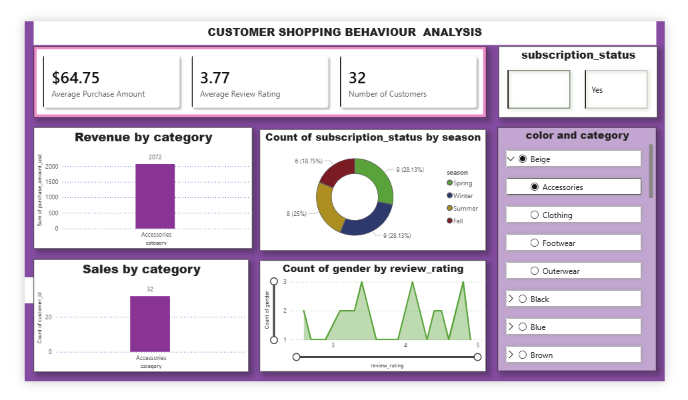

The dashboard page shown, as its layout file describes it:
{"tool":"powerbi","page":{"name":"CUSTOMER SHOPPING BEHAVIOUR  ANALYSIS","canvas":[1280,720],"ordinal":0},"visuals":[{"type":"cardVisual","fields":{"Data":["customer_shopping_behavior_clean.Average Purchase Amount","customer_shopping_behavior_clean.Average Review Rating","customer_shopping_behavior_clean.Number of Customers"]},"box":[17.5,50,905,142.5],"z":0},{"type":"textbox","box":[0,512,82,52],"z":1000},{"type":"clusteredColumnChart","title":"Revenue by category","fields":{"Category":["customer_shopping_behavior_clean.category"],"Y":["Sum(customer_shopping_behavior_clean.purchase_amount_usd)"]},"box":[17.5,212.5,437.5,242.5],"z":2000},{"type":"clusteredColumnChart","title":"Sales by category","fields":{"Category":["customer_shopping_behavior_clean.category"],"Y":["CountNonNull(customer_shopping_behavior_clean.customer_id)"]},"box":[17.5,475,430,225],"z":3000},{"type":"advancedSlicerVisual","fields":{"Values":["customer_shopping_behavior_clean.subscription_status"]},"box":[947.5,50,317.5,142.5],"z":4000},{"type":"listSlicer","fields":{"Values":["customer_shopping_behavior_clean.color","customer_shopping_behavior_clean.category"]},"box":[945,212.5,317.5,487.5],"z":5000},{"type":"lineChart","fields":{"Category":["customer_shopping_behavior_clean.review_rating"],"Y":["CountNonNull(customer_shopping_behavior_clean.gender)"]},"box":[470,477.5,452.5,222.5],"z":6000},{"type":"donutChart","fields":{"Y":["CountNonNull(customer_shopping_behavior_clean.subscription_status)"],"Category":["customer_shopping_behavior_clean.season"]},"box":[470,215,452.5,242.5],"z":7000},{"type":"textbox","box":[17.5,0,1245,47.5],"z":8000}]}

Visuals, with their boxes on the page's 1280x720 design canvas (x1, y1, x2, y2). These are canvas units, not pixel positions in the 688x400 screenshot, which may show the page scaled, cropped or inside an application window:
cardVisual - customer_shopping_behavior_clean.Average Purchase Amount x customer_shopping_behavior_clean.Average Review Rating: [x1=18, y1=50, x2=922, y2=192]
textbox: [x1=0, y1=512, x2=82, y2=564]
"Revenue by category" clusteredColumnChart: [x1=18, y1=212, x2=455, y2=455]
"Sales by category" clusteredColumnChart: [x1=18, y1=475, x2=448, y2=700]
advancedSlicerVisual - customer_shopping_behavior_clean.subscription_status: [x1=948, y1=50, x2=1265, y2=192]
listSlicer - customer_shopping_behavior_clean.color x customer_shopping_behavior_clean.category: [x1=945, y1=212, x2=1262, y2=700]
lineChart - customer_shopping_behavior_clean.review_rating x CountNonNull(customer_shopping_behavior_clean.gender): [x1=470, y1=478, x2=922, y2=700]
donutChart - CountNonNull(customer_shopping_behavior_clean.subscription_status) x customer_shopping_behavior_clean.season: [x1=470, y1=215, x2=922, y2=458]
textbox: [x1=18, y1=0, x2=1262, y2=48]
